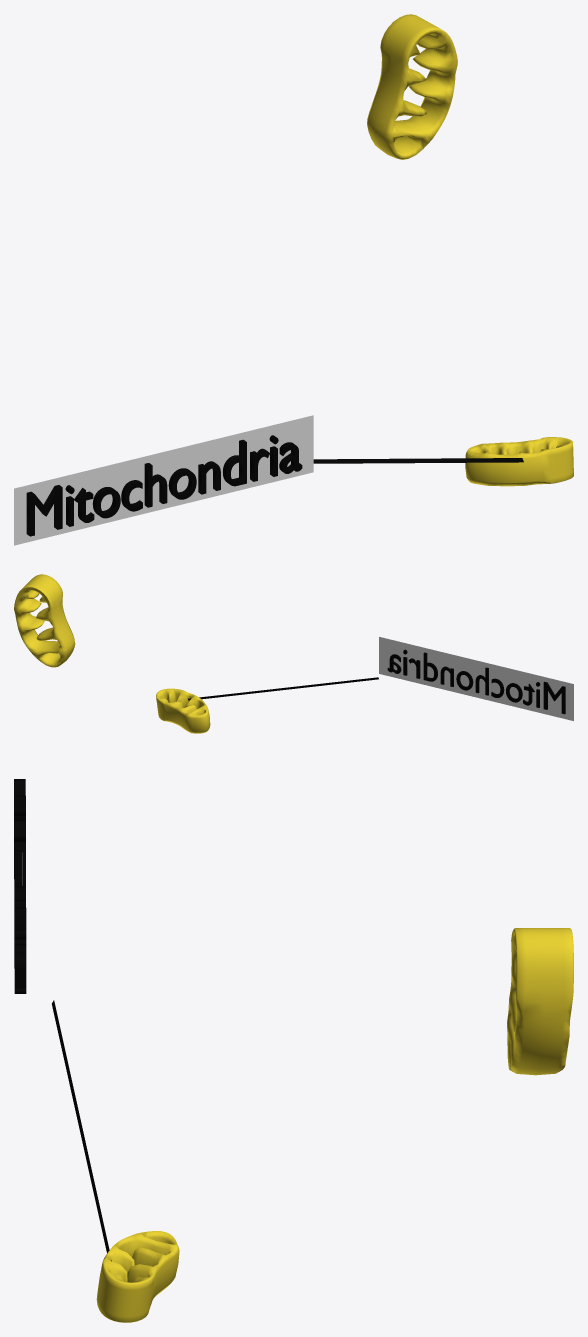
The model's file is mitochondria.gltf.
The picture shows the model from 3 angles, top to bottom: view 1: azimuth 30°, elevation 25°; view 2: azimuth 150°, elevation 25°; view 3: azimuth 270°, elevation 25°; orthographic projection. The views are drawn at different scales.
Parts seen in each view (by area): view 1: Amarillo_Interno, Plane.003, Text.003, Plane.031; view 2: Plane.003, Amarillo_Interno, Text.003, Plane.031; view 3: Amarillo_Interno, Text.003, Plane.031.
Boxes of the visible parts, box(x1,y1,x2,y2) form: Amarillo_Interno: box(367, 14, 573, 486); Plane.003: box(14, 415, 313, 545); Text.003: box(26, 435, 302, 536); Plane.031: box(313, 458, 523, 463); Plane.003: box(379, 637, 573, 720); Amarillo_Interno: box(14, 574, 210, 733); Text.003: box(387, 649, 565, 714); Plane.031: box(188, 677, 378, 700); Amarillo_Interno: box(96, 928, 573, 1322); Text.003: box(14, 779, 26, 993); Plane.031: box(52, 1000, 111, 1261).
Size of the model in its own units: 2.86 by 1.38 by 1.74.
